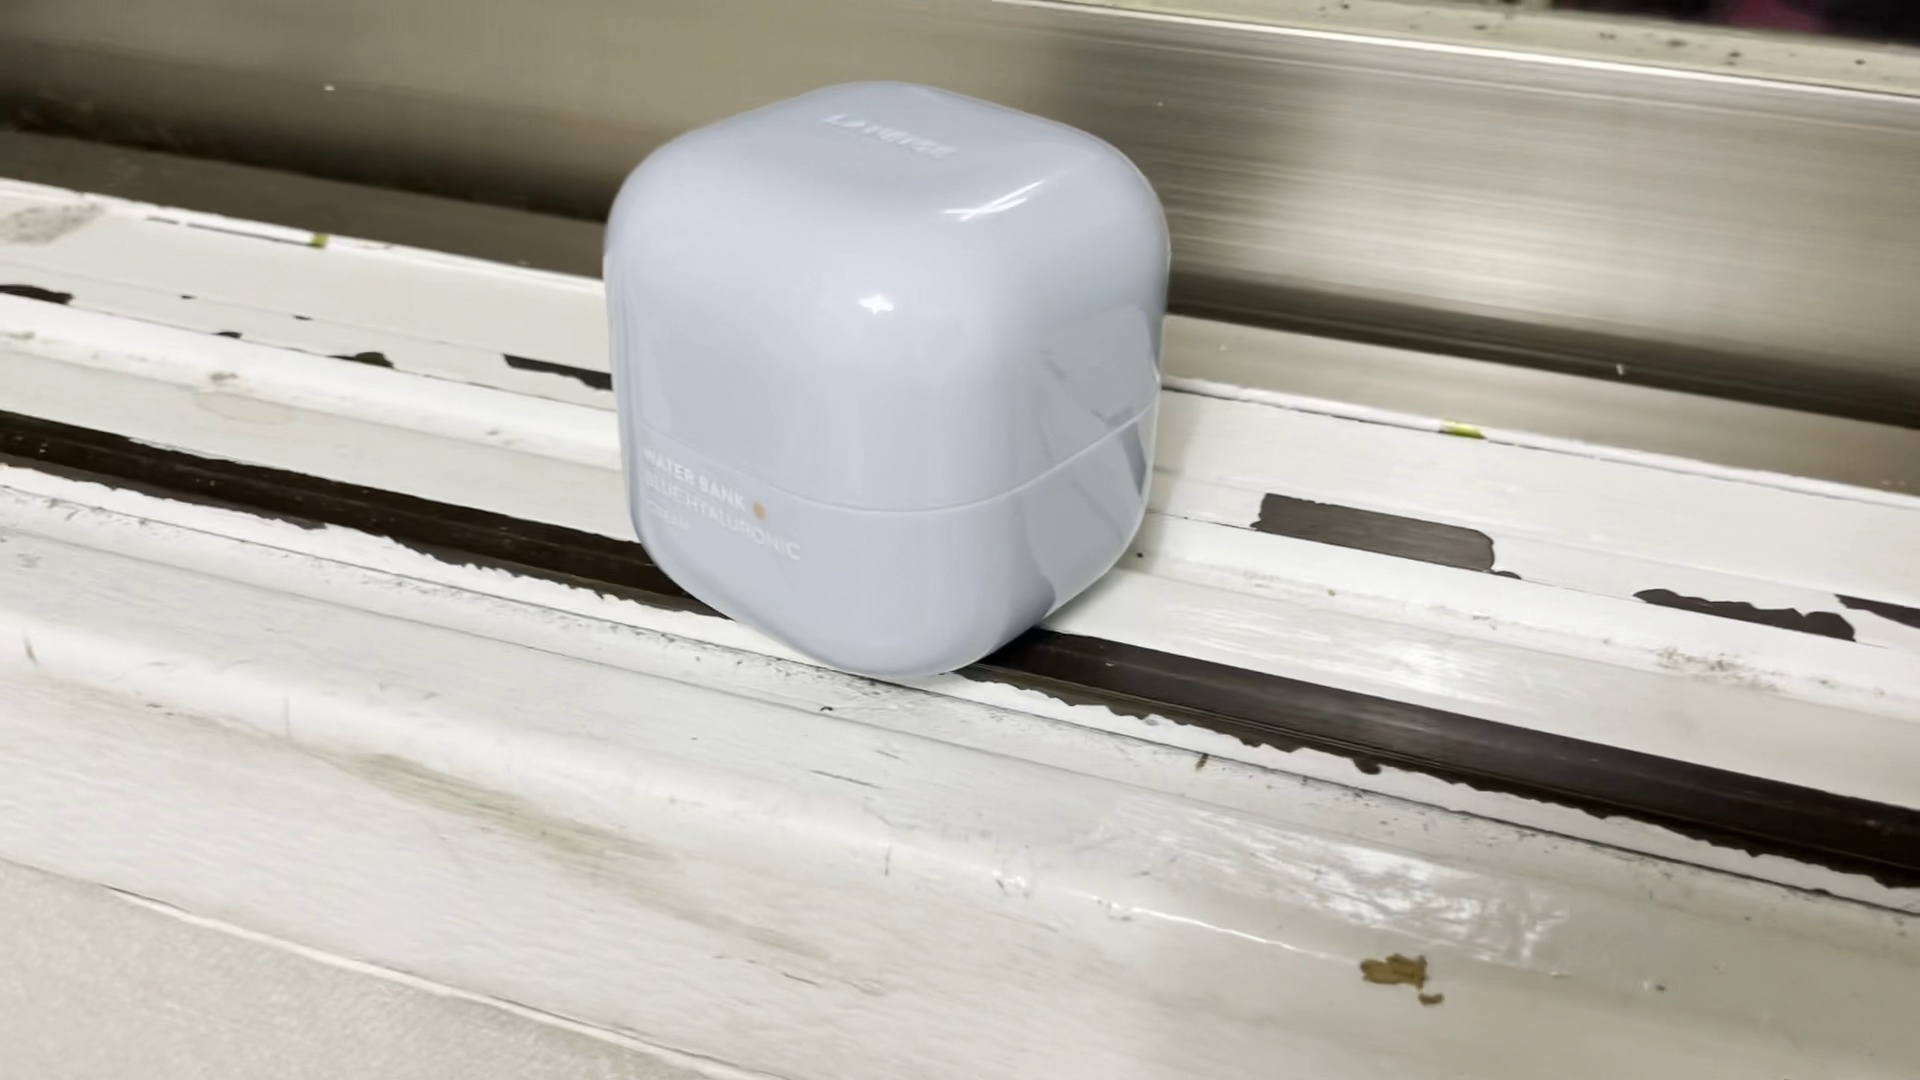cream: (601, 78, 1167, 682)
